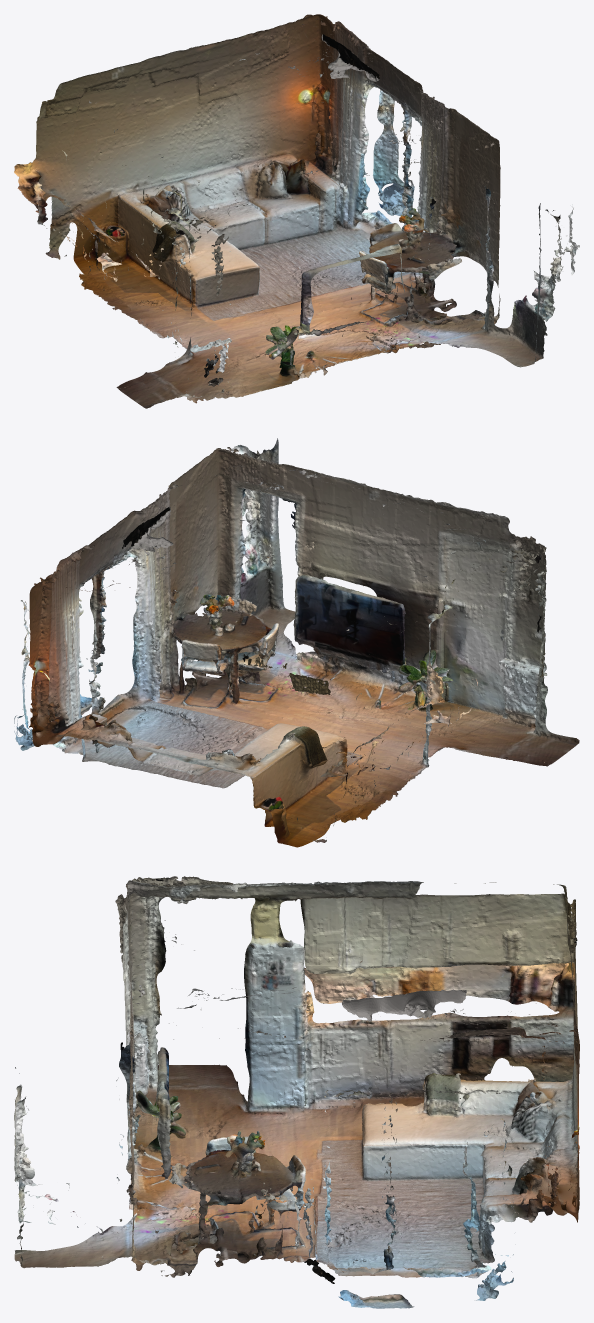
File: living-scan.glb
3 views of the same model, one above another, from view 1: azimuth 30°, elevation 25°; view 2: azimuth 150°, elevation 25°; view 3: azimuth 270°, elevation 25° (orthographic). The views are drawn at different scales.
Bounding box in the file's own units: 5.67 × 2.92 × 5.6.
Materials: 2 (2 with a texture image).
